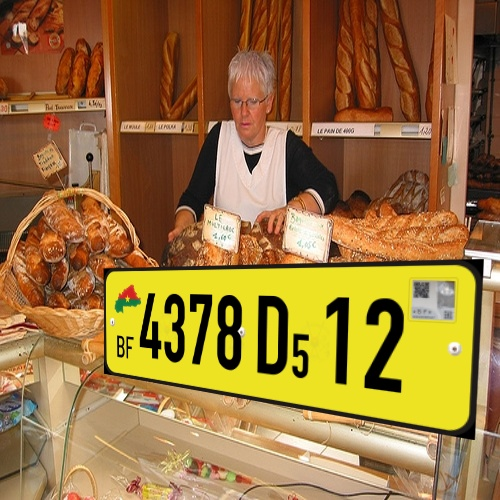plate: (92, 250, 487, 457)
